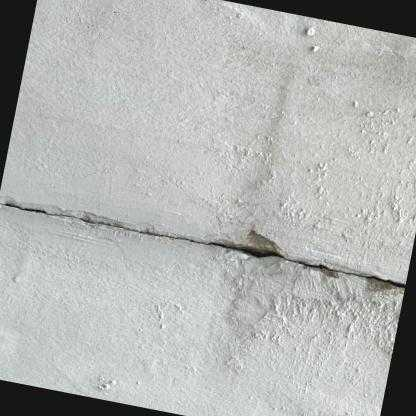crack: (0, 201, 405, 288)
